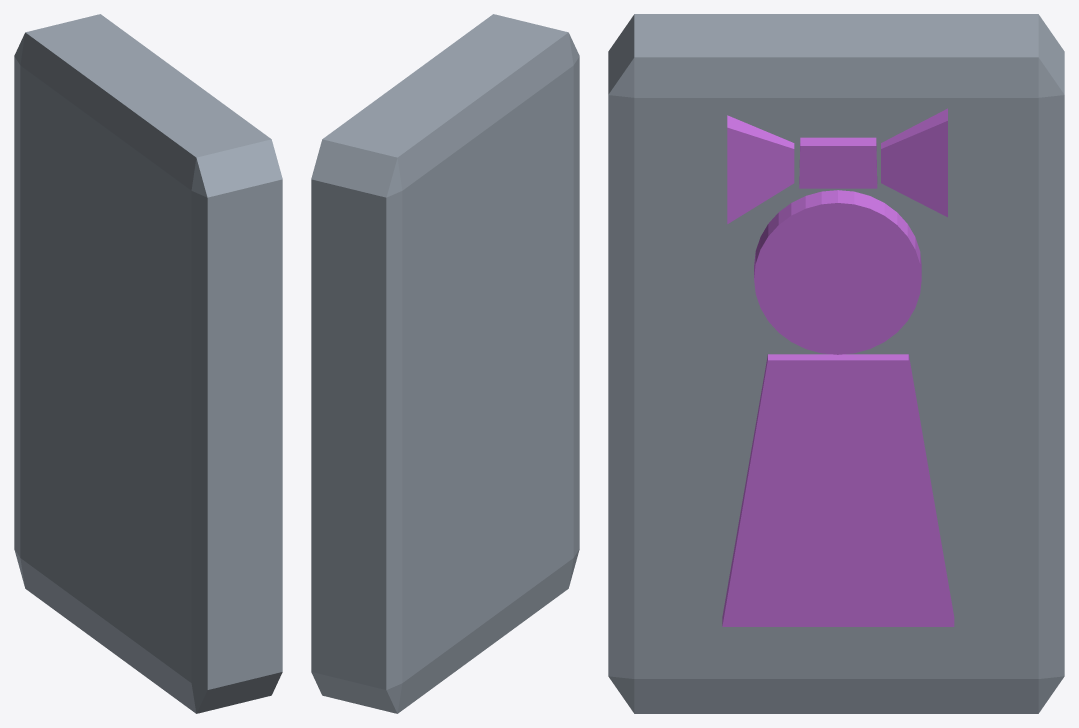
Rendered from CartelMujer.fbx.
3 renders of one model, left to right at view 1: azimuth 30°, elevation 25°; view 2: azimuth 150°, elevation 25°; view 3: azimuth 270°, elevation 25°, orthographic. The views are drawn at different scales.
Visible parts, largest first — view 1: CartelMujer; view 2: CartelMujer; view 3: CartelMujer, Cube.002, Cylinder.001, Cube.004, Cube.005, Cube.003.
Part boxes in pixels (box(x1,y1,x2,y2)): CartelMujer: box(14, 14, 282, 713); CartelMujer: box(311, 14, 579, 713); CartelMujer: box(608, 14, 1064, 713); Cube.002: box(722, 354, 954, 626); Cylinder.001: box(754, 190, 921, 354); Cube.004: box(727, 115, 794, 223); Cube.005: box(881, 108, 947, 217); Cube.003: box(799, 137, 877, 188).
Size of the model in its own units: 40.35 by 200 by 126.
